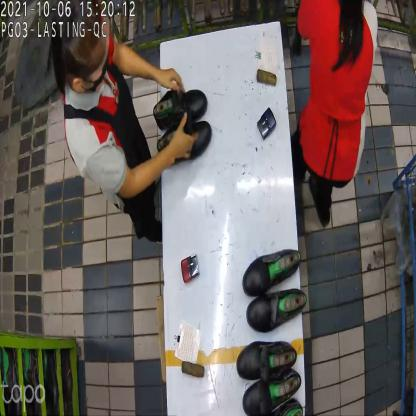shoes: (232, 338, 306, 416), (151, 87, 214, 162), (247, 250, 306, 330)
stamp: (257, 105, 276, 140), (182, 252, 200, 284)
